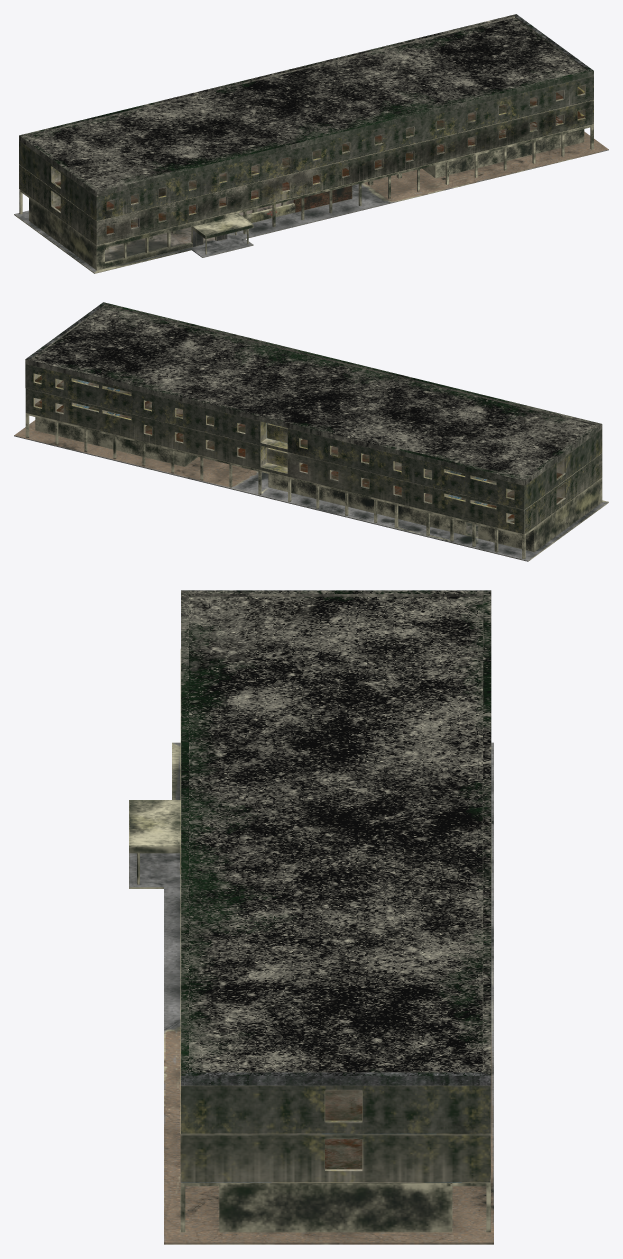
The model's file is pabellon.fbx.
The picture shows the model from 3 angles, top to bottom: view 1: azimuth 30°, elevation 25°; view 2: azimuth 150°, elevation 25°; view 3: azimuth 270°, elevation 25°; orthographic projection. The views are drawn at different scales.
Parts seen in each view (by area): view 1: techo, PABELLON-piso0CONDEATLLESPARATEXTURIZAR, pabe01, piso2; view 2: techo, PABELLON-piso0CONDEATLLESPARATEXTURIZAR, pabe01, piso2; view 3: techo, PABELLON-piso0CONDEATLLESPARATEXTURIZAR, piso2, pabe01.
Part boxes in pixels (x1=…): techo: x1=19, y1=14, x2=593, y2=196; PABELLON-piso0CONDEATLLESPARATEXTURIZAR: x1=14, y1=124, x2=608, y2=273; pabe01: x1=19, y1=100, x2=593, y2=245; piso2: x1=19, y1=76, x2=593, y2=220; techo: x1=25, y1=302, x2=602, y2=485; PABELLON-piso0CONDEATLLESPARATEXTURIZAR: x1=14, y1=413, x2=608, y2=561; pabe01: x1=25, y1=388, x2=602, y2=534; piso2: x1=25, y1=364, x2=602, y2=509; techo: x1=181, y1=590, x2=491, y2=1085; PABELLON-piso0CONDEATLLESPARATEXTURIZAR: x1=129, y1=742, x2=493, y2=1244; piso2: x1=181, y1=1085, x2=491, y2=1134; pabe01: x1=180, y1=1134, x2=490, y2=1182.
Bounding box in the file's own units: 7626 × 1124 × 2352.
